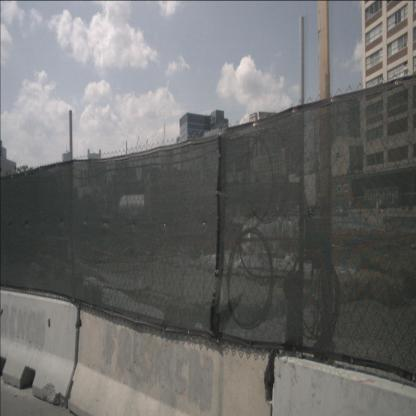barrier: (68, 306, 274, 416), (0, 290, 79, 406), (271, 354, 416, 416)
